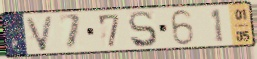1: (209, 7, 224, 45)
6: (170, 8, 196, 47)
7: (57, 14, 83, 53), (96, 12, 121, 49)
S: (127, 9, 159, 49)
V: (24, 14, 56, 53)
